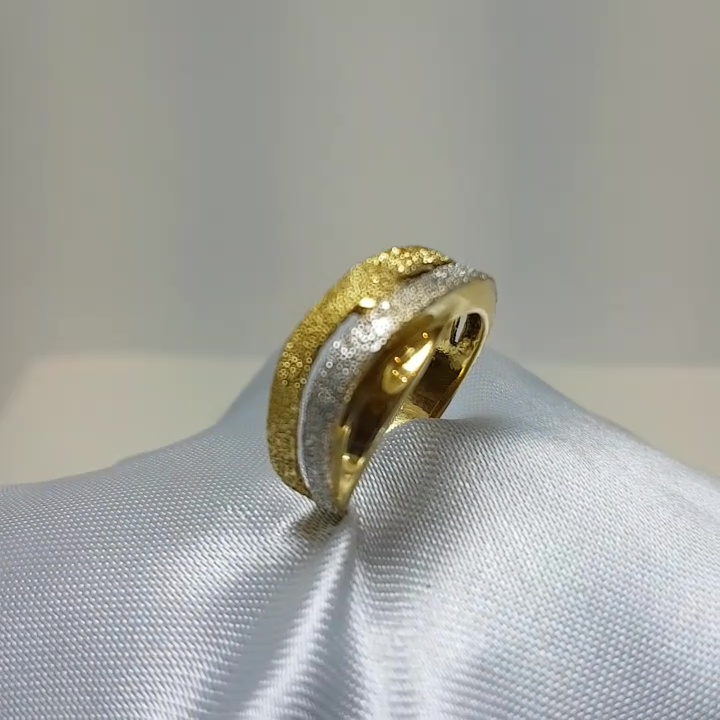Ring 5: (241, 231, 525, 533)
